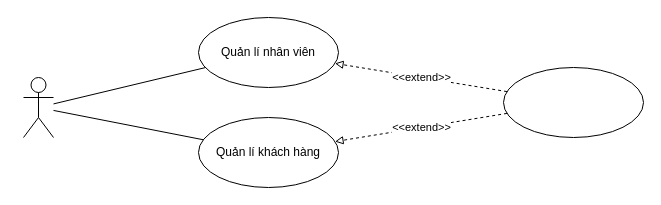
The diagram is 661 pixels wide and 205 high, and some of its shapes have lost their labels. The centre of each missing label's shape, as x and y in pixels:
Quản trị: point (38, 107)
Xem lịch sử giao dịch: point (573, 102)
